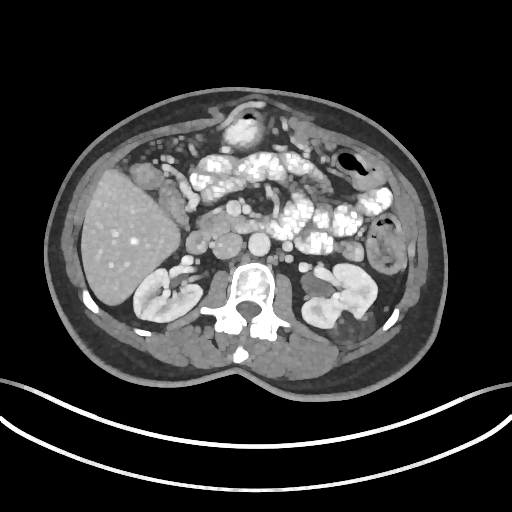Lesion: (330, 312, 376, 345)
